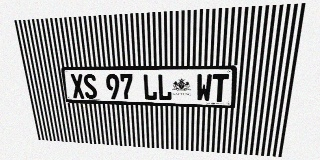7: (119, 74, 134, 100)
9: (105, 74, 120, 100)
L: (157, 74, 172, 101), (143, 74, 157, 100)
S: (82, 74, 98, 99)
T: (212, 74, 229, 102)
W: (196, 74, 212, 102)
X: (70, 74, 85, 99)
